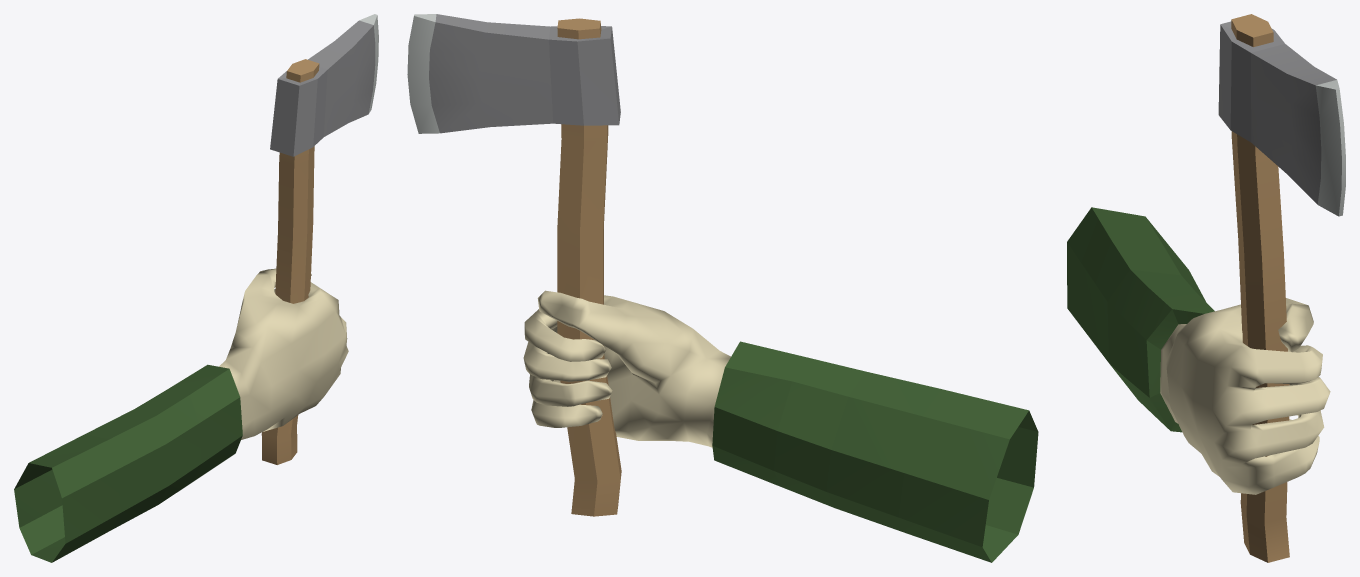
Rendered from EquipedAxe.fbx.
The picture shows the model from 3 angles, left to right: view 1: azimuth 30°, elevation 25°; view 2: azimuth 150°, elevation 25°; view 3: azimuth 270°, elevation 25°; orthographic projection. The views are drawn at different scales.
Visible parts, largest first — view 1: EquipedAxe; view 2: EquipedAxe; view 3: EquipedAxe.
Boxes of the visible parts, bbox=[...] form: EquipedAxe: bbox=[14, 14, 378, 562]; EquipedAxe: bbox=[407, 14, 1038, 562]; EquipedAxe: bbox=[1067, 14, 1345, 562].
Bounding box in the file's own units: 1.68 × 1.51 × 0.699.
